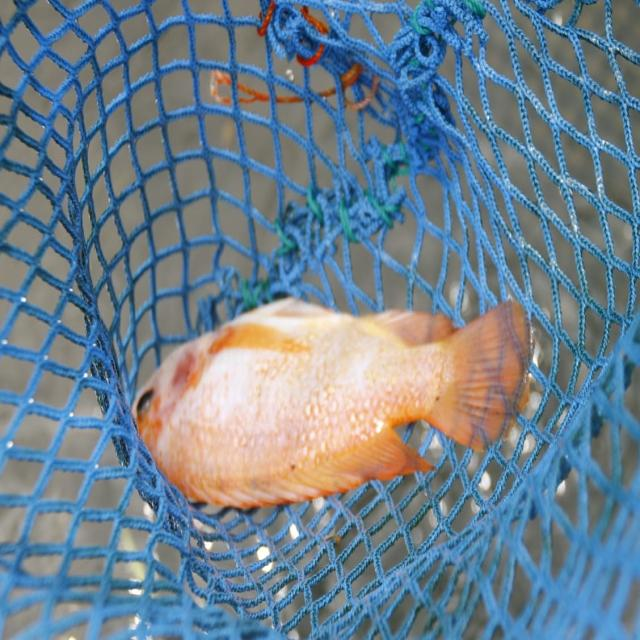ikan: (110, 260, 554, 519)
